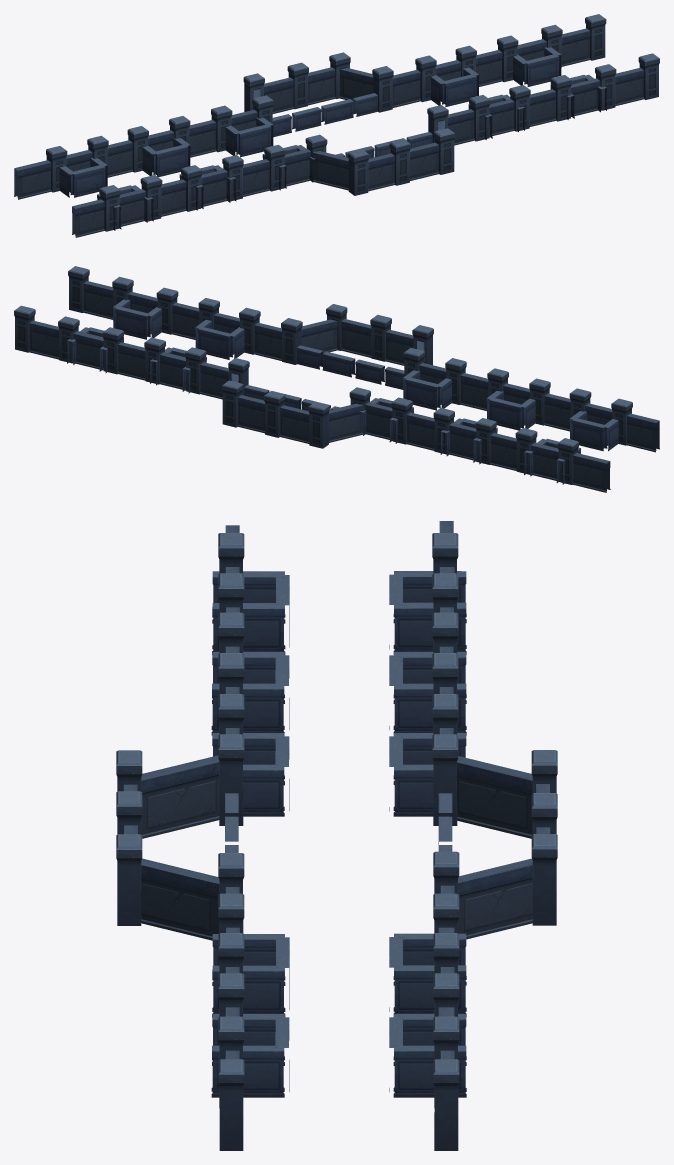
Rendered from Area_12_4.fbx.
3 views of the same model, one above another, from view 1: azimuth 30°, elevation 25°; view 2: azimuth 150°, elevation 25°; view 3: azimuth 270°, elevation 25° (orthographic). The views are drawn at different scales.
Parts seen in each view (by area): view 1: Area_12_4; view 2: Area_12_4; view 3: Area_12_4.
Boxes of the visible parts, box(x1,y1,x2,y2) form: Area_12_4: box(14, 14, 659, 237); Area_12_4: box(14, 266, 659, 492); Area_12_4: box(116, 521, 557, 1150).
Bounding box in the file's own units: 9971 × 642 × 3246.
